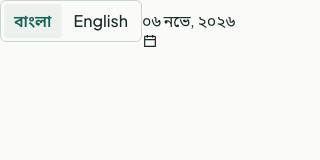
it: localizes the calendar display without changing its ISO date value
This screenshot has width=320, height=160.
Expected: the text "০৬ নভে, ২০২৬" is shown, [142,10,235,31]
Click the button "English" at [101, 21], box [64,4,138,38]
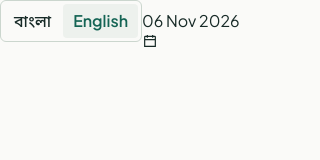
Now the text "06 Nov 2026" is shown, box [142,10,240,31]
